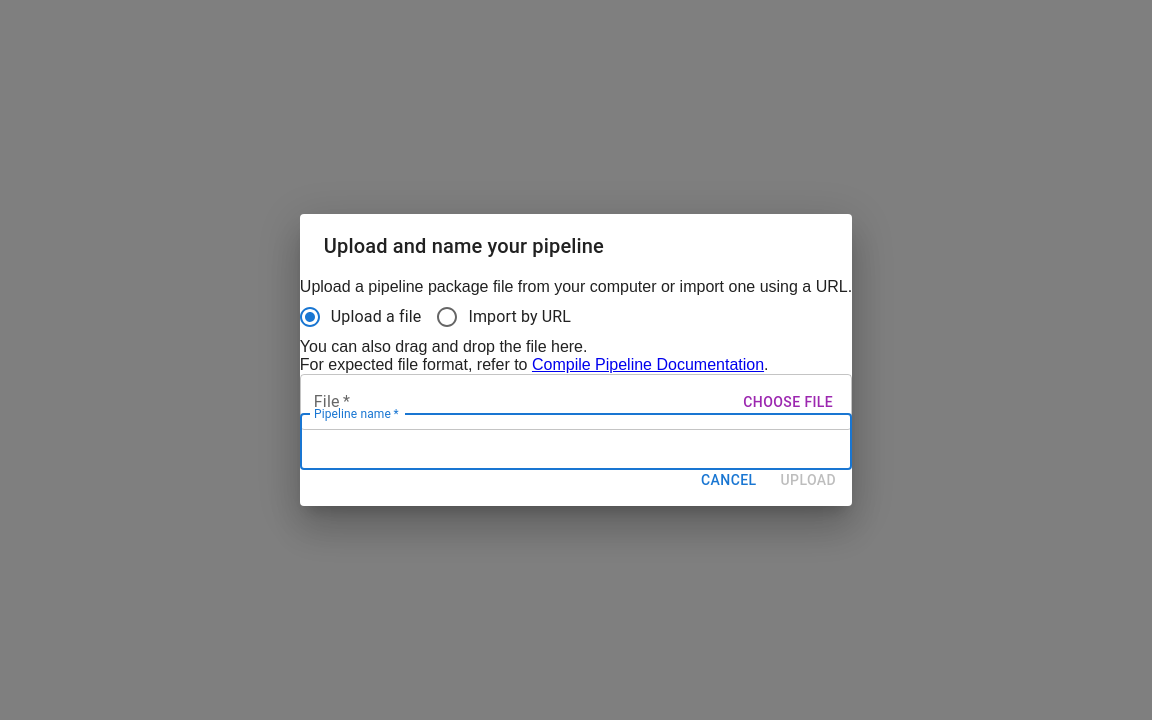
UploadPipelineDialog › switches between local upload and URL import modes
Check: the element with test id "upload-pipeline-dropzone" is shown, box [300,338,852,414]
Click the radio button labelled "Import by URL": (503, 317) [435,305,571,329]
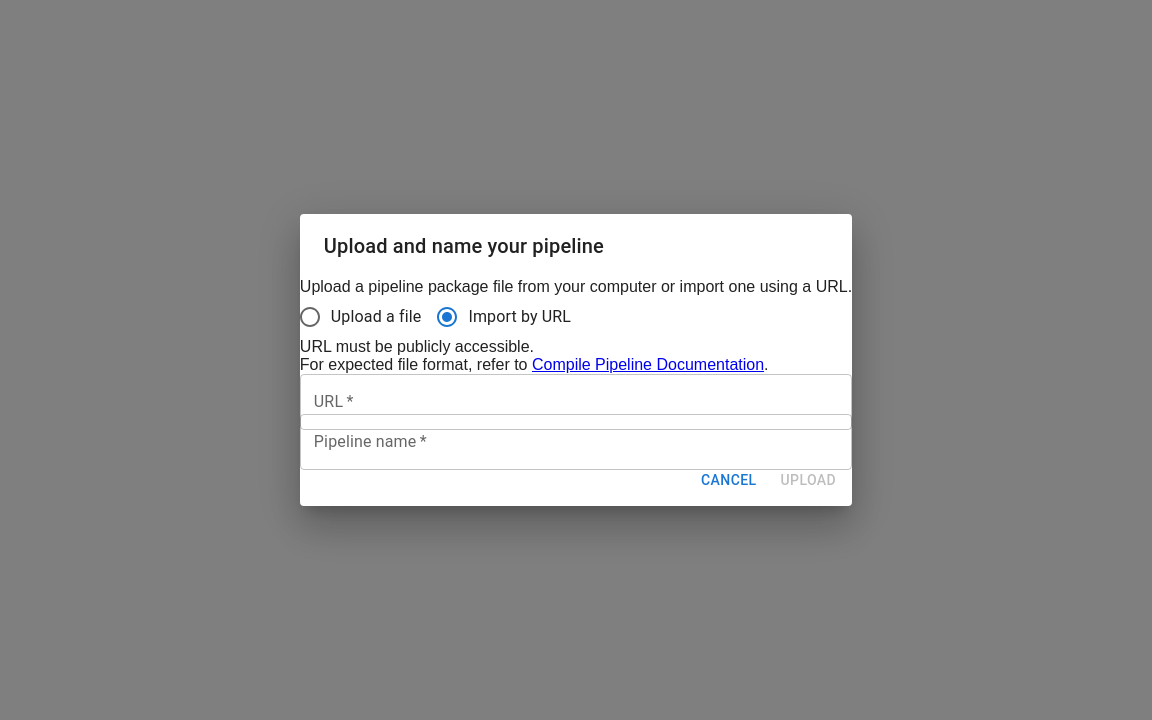
Check: the element with test id "upload-pipeline-dropzone" is gone
Check: the field labelled "URL *" is shown, box [300,374,852,430]
Click the radio button labelled "Upload a file": (360, 317) [298,305,421,329]
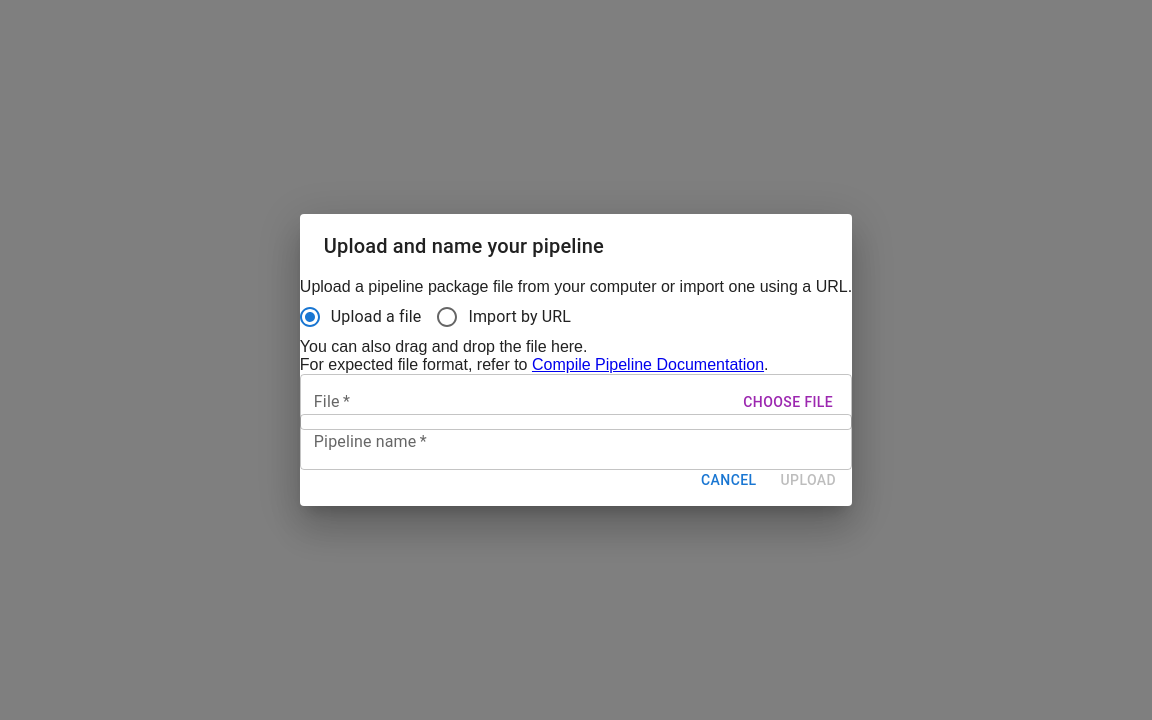
Check: the element with test id "upload-pipeline-dropzone" is shown, box [300,338,852,414]
